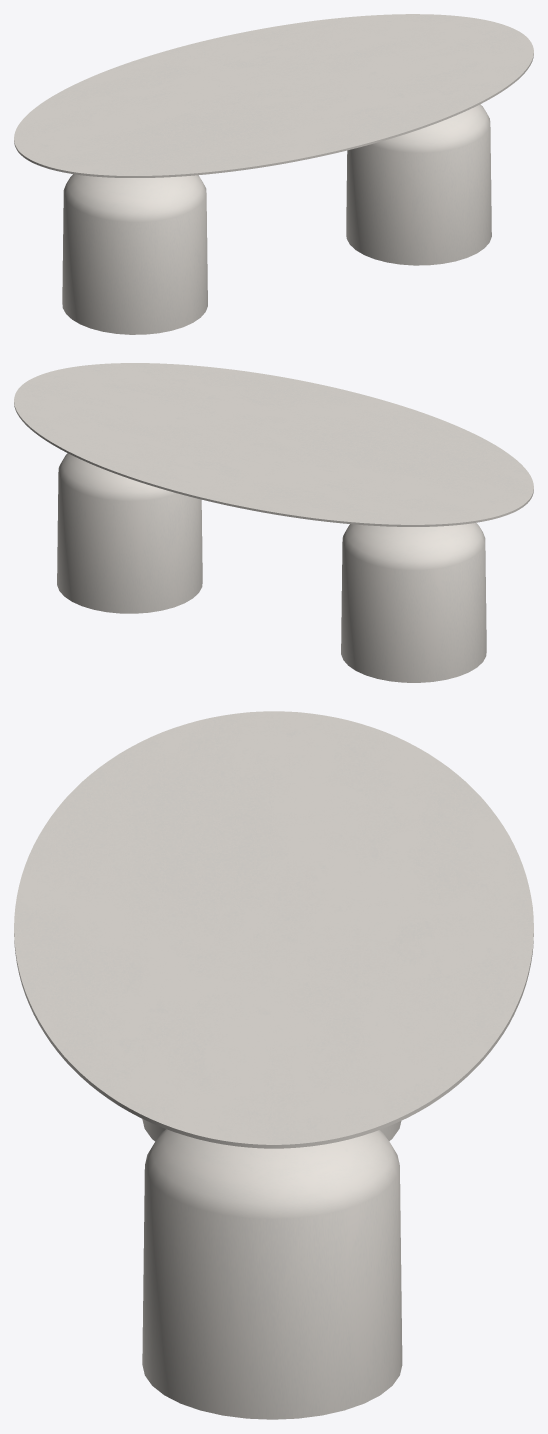
The model's file is pearlwhite_ellips_facet_tornado.glb.
3 views of the same model, one above another, from view 1: azimuth 30°, elevation 25°; view 2: azimuth 150°, elevation 25°; view 3: azimuth 270°, elevation 25° (orthographic). The views are drawn at different scales.
Parts seen in each view (by area): view 1: facet_ellips, tornado; view 2: facet_ellips, tornado; view 3: facet_ellips, tornado.
Part boxes in pixels (bbox=[...]): facet_ellips: bbox=[14, 14, 533, 177]; tornado: bbox=[62, 104, 491, 334]; facet_ellips: bbox=[14, 363, 533, 526]; tornado: bbox=[57, 453, 486, 682]; facet_ellips: bbox=[14, 711, 533, 1148]; tornado: bbox=[142, 1119, 402, 1419].
Bounding box in the file's own units: 7.5 × 2.51 × 3.8.
1 material, 1 textured.
